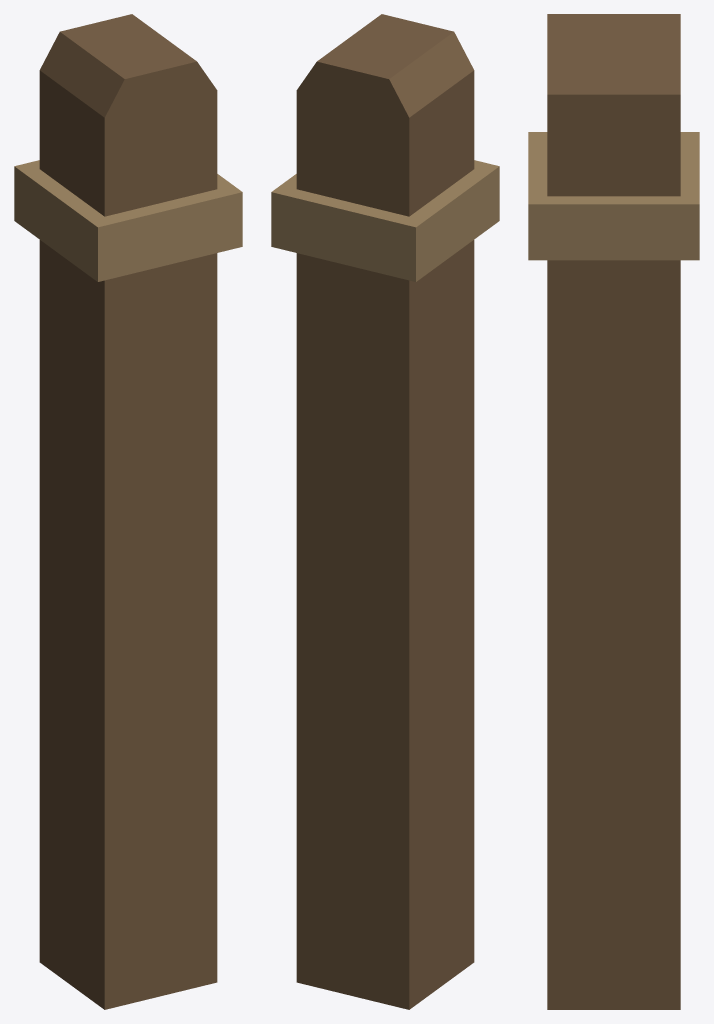
Rendered from TW_WOOD_POST_B_LOD0.glb.
3 renders of one model, left to right at view 1: azimuth 30°, elevation 25°; view 2: azimuth 150°, elevation 25°; view 3: azimuth 270°, elevation 25°, orthographic. The views are drawn at different scales.
Parts seen in each view (by area): view 1: TW_WOOD_POST_B_LOD0; view 2: TW_WOOD_POST_B_LOD0; view 3: TW_WOOD_POST_B_LOD0.
Part boxes in pixels (left/top/right/bottom): TW_WOOD_POST_B_LOD0: left=14, top=14, right=242, bottom=1009; TW_WOOD_POST_B_LOD0: left=271, top=14, right=499, bottom=1009; TW_WOOD_POST_B_LOD0: left=528, top=14, right=699, bottom=1009.
Bounding box in the file's own units: 0.18 × 1.1 × 0.18.
1 material, 1 textured.
